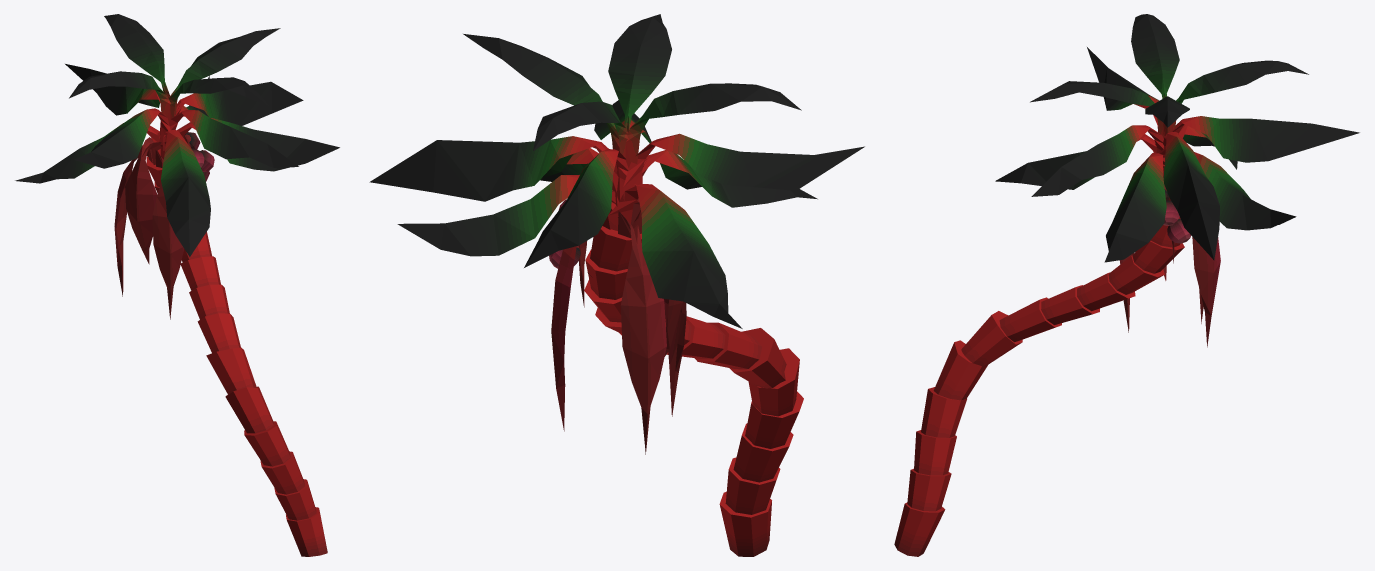
3 views of the same model, side by side, from view 1: azimuth 30°, elevation 25°; view 2: azimuth 150°, elevation 25°; view 3: azimuth 270°, elevation 25° (orthographic). The views are drawn at different scales.
Visible parts, largest first — view 1: Tree2; view 2: Tree2; view 3: Tree2.
Part boxes in pixels (<box>): Tree2: <box>15,14,339,556</box>; Tree2: <box>369,14,864,556</box>; Tree2: <box>894,14,1359,556</box>.
Bounding box in the file's own units: 482 × 688 × 610.
Materials: 1 (1 with a texture image).
